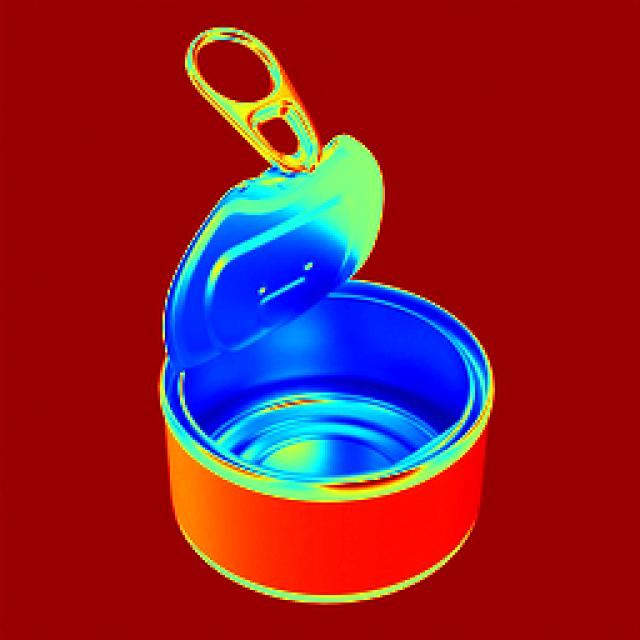Aluminium Food Cans: (183, 27, 481, 579)
